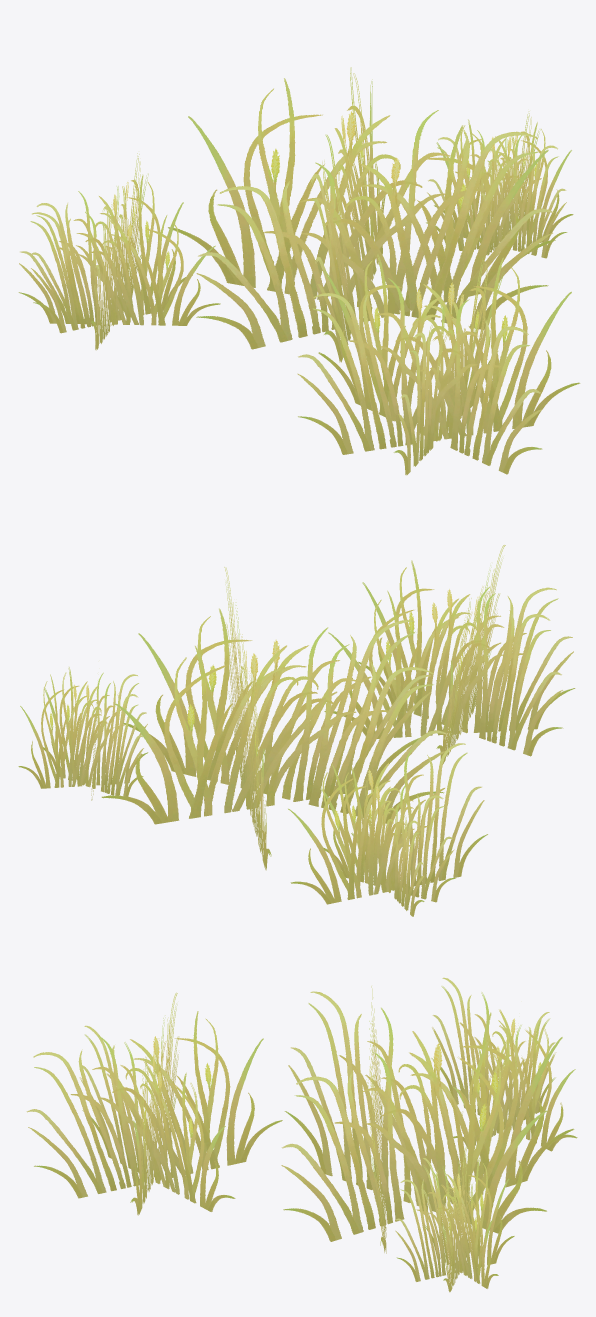
The model's file is SM_grass_base_05_ZYF.fbx.
The picture shows the model from 3 angles, top to bottom: view 1: azimuth 30°, elevation 25°; view 2: azimuth 150°, elevation 25°; view 3: azimuth 270°, elevation 25°; orthographic projection. The views are drawn at different scales.
Parts seen in each view (by area): view 1: SM_grass_base_05_ZYF.mo; view 2: SM_grass_base_05_ZYF.mo; view 3: SM_grass_base_05_ZYF.mo.
Boxes of the visible parts, left/top/right/bottom form: SM_grass_base_05_ZYF.mo: left=18, top=67, right=580, bottom=475; SM_grass_base_05_ZYF.mo: left=18, top=545, right=575, bottom=916; SM_grass_base_05_ZYF.mo: left=26, top=977, right=577, bottom=1292.
Size of the model in its own units: 1.98 by 0.8567 by 2.2.
